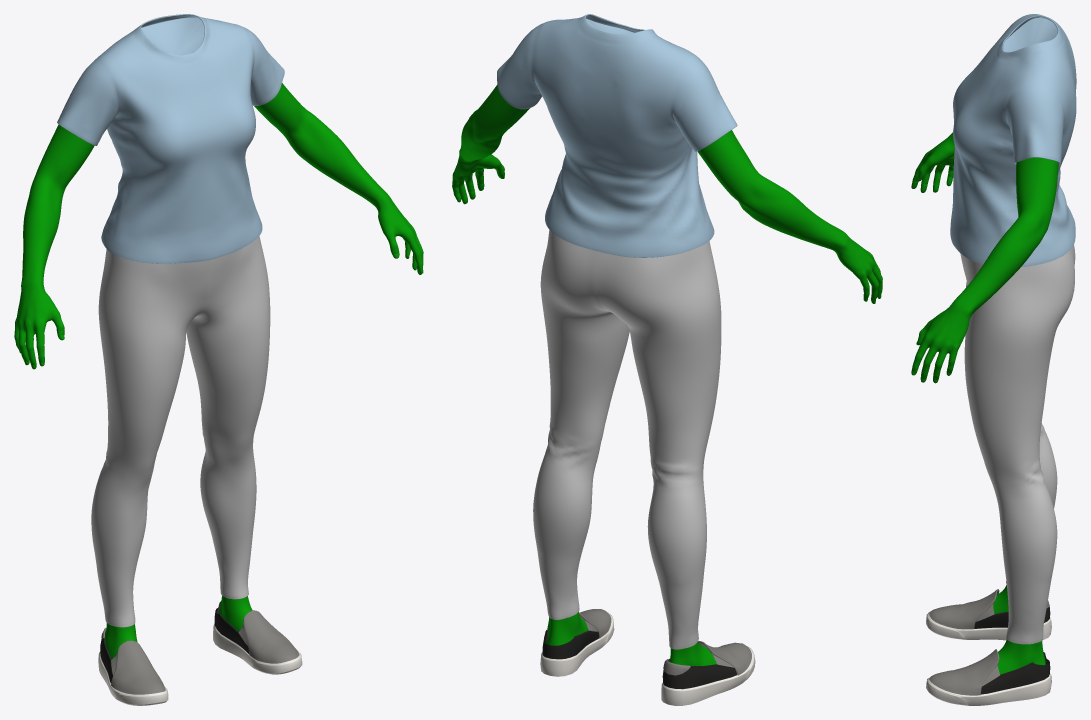
The model's file is Pia_Fit_avg.fbx.
3 views of the same model, side by side, from view 1: azimuth 30°, elevation 25°; view 2: azimuth 150°, elevation 25°; view 3: azimuth 270°, elevation 25° (orthographic). The views are drawn at different scales.
Visible parts, largest first — view 1: Legs_LOD0, Torso_LOD0, Body_LOD0, Feet; view 2: Legs_LOD0, Torso_LOD0, Body_LOD0, Feet; view 3: Legs_LOD0, Torso_LOD0, Body_LOD0, Feet.
Part boxes in pixels (x1=…): Legs_LOD0: x1=91, y1=236, x2=270, y2=627; Torso_LOD0: x1=57, y1=14, x2=284, y2=263; Body_LOD0: x1=14, y1=83, x2=423, y2=659; Feet: x1=98, y1=601, x2=302, y2=705; Legs_LOD0: x1=533, y1=230, x2=721, y2=649; Torso_LOD0: x1=497, y1=14, x2=737, y2=257; Body_LOD0: x1=452, y1=85, x2=882, y2=665; Feet: x1=540, y1=609, x2=755, y2=705; Legs_LOD0: x1=960, y1=245, x2=1075, y2=644; Torso_LOD0: x1=950, y1=14, x2=1076, y2=266; Body_LOD0: x1=911, y1=132, x2=1058, y2=674; Feet: x1=926, y1=589, x2=1051, y2=705.
Size of what is drawn, in the model's own units: 90.57 by 32.18 by 137.
